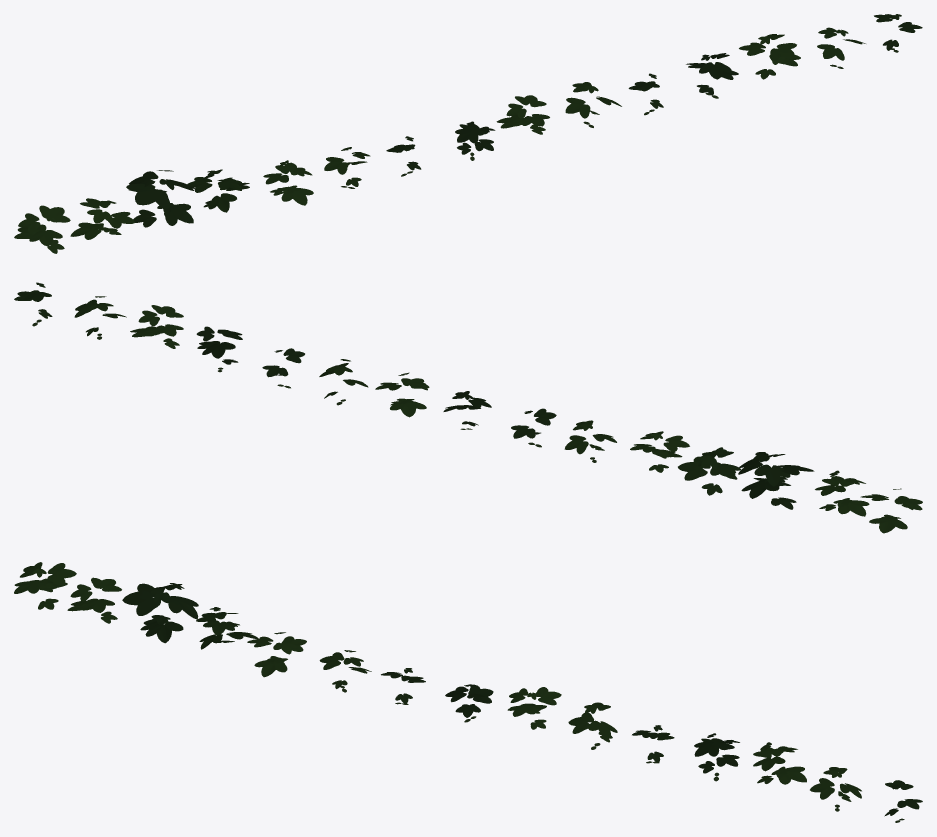
Rendered from ROW_11_SEG0_foliage.dae.
The picture shows the model from 3 angles, top to bottom: view 1: azimuth 30°, elevation 25°; view 2: azimuth 150°, elevation 25°; view 3: azimuth 330°, elevation 25°; orthographic projection.
Parts seen in each view (by area): view 1: ROW_11_SEG0_foliage; view 2: ROW_11_SEG0_foliage; view 3: ROW_11_SEG0_foliage.
Boxes of the visible parts, x1,y1,x2,y2 form: ROW_11_SEG0_foliage: [14, 14, 922, 253]; ROW_11_SEG0_foliage: [14, 282, 922, 533]; ROW_11_SEG0_foliage: [14, 562, 922, 822].
Bounding box in the file's own units: 4.48 × 0.383 × 0.2692.
